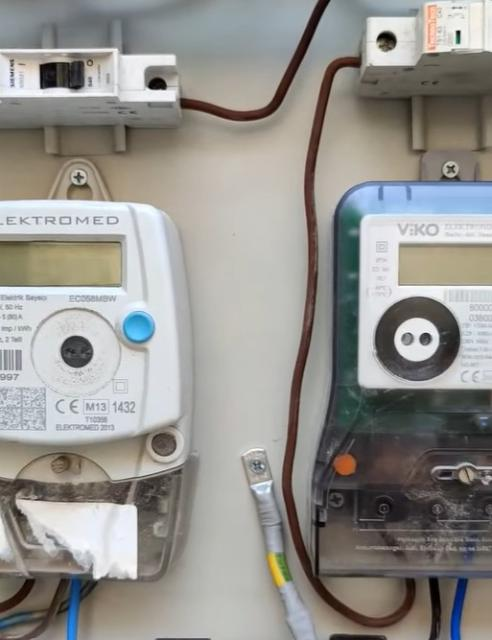electric-meter-detection: (0, 199, 194, 579), (308, 180, 491, 577)
